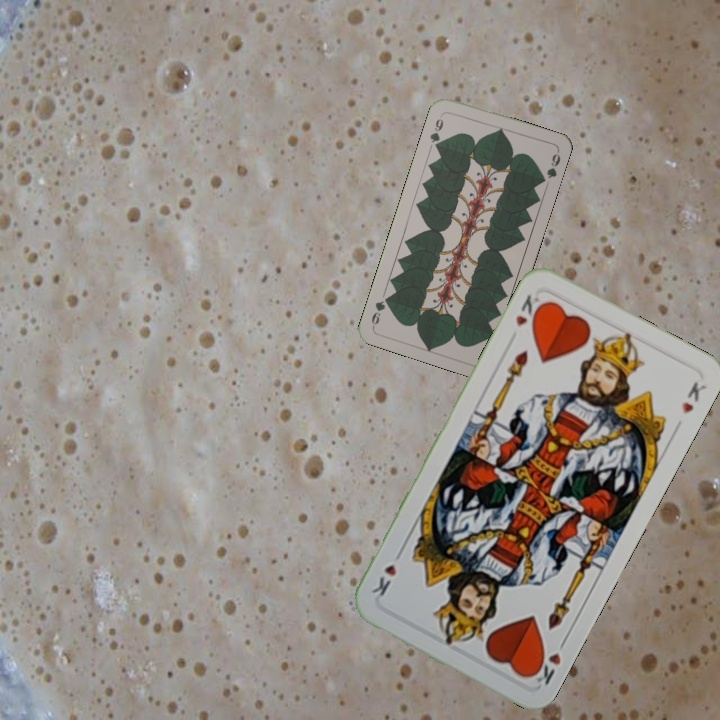G9: (426, 110, 446, 151)
HK: (526, 634, 570, 688), (511, 290, 547, 330)
